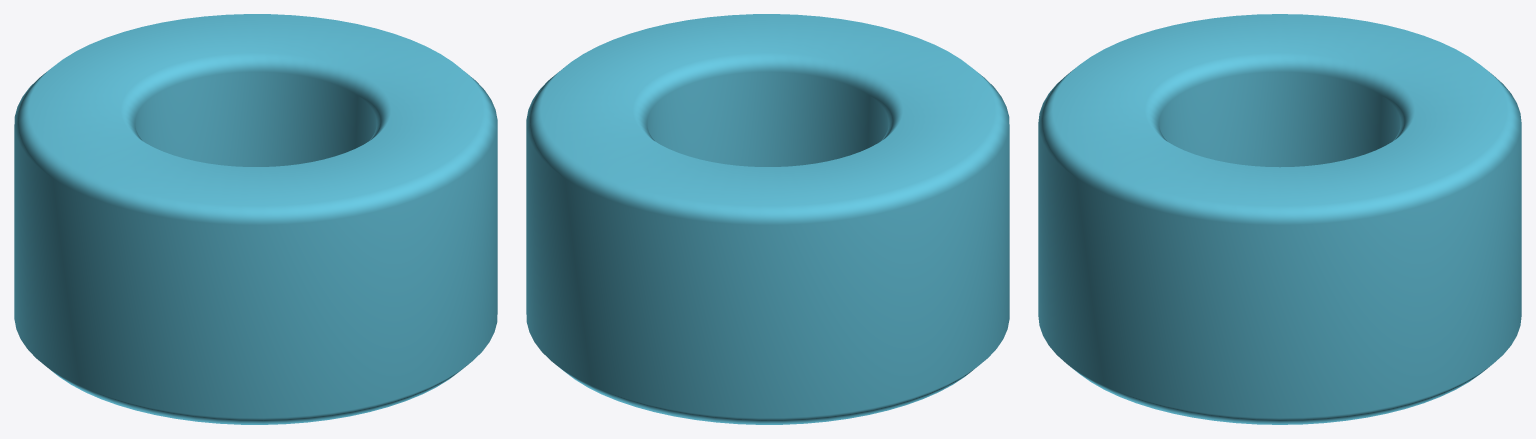
3 renders of one model, left to right at view 1: azimuth 30°, elevation 25°; view 2: azimuth 150°, elevation 25°; view 3: azimuth 270°, elevation 25°, orthographic.
Visible parts, largest first — view 1: seal_body; view 2: seal_body; view 3: seal_body.
Part boxes in pixels (box(x1,y1,x2,y2)): seal_body: box(14, 14, 497, 424); seal_body: box(526, 14, 1009, 424); seal_body: box(1038, 14, 1521, 424).
Size of the model in its own units: 0.0127 by 0.00635 by 0.0127.
